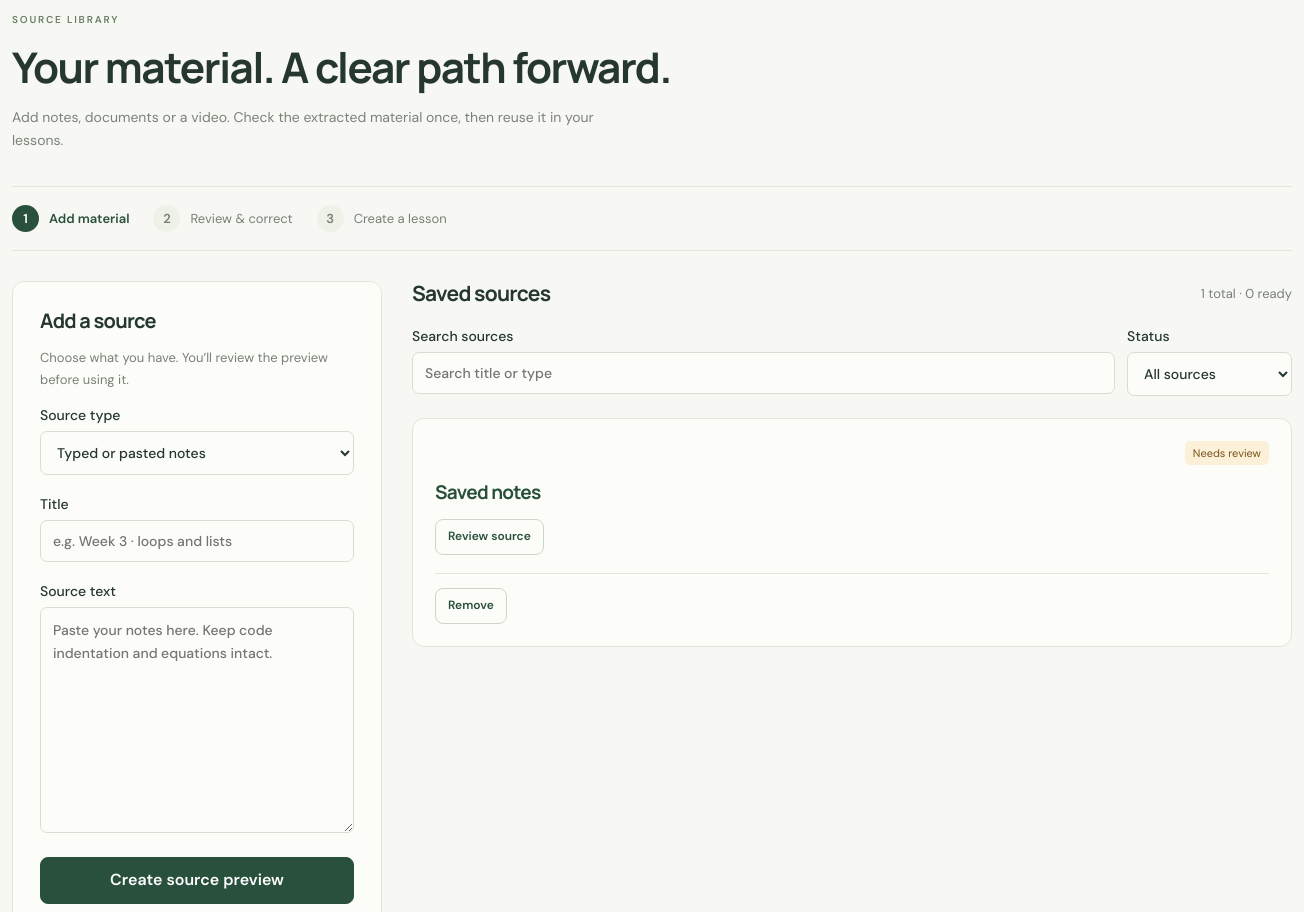
Test: removes a saved source only after confirmation and refreshes the list
Step 1. Click the button with aria-label "Remove source Saved notes" → (471, 606), box [435,588,507,624]
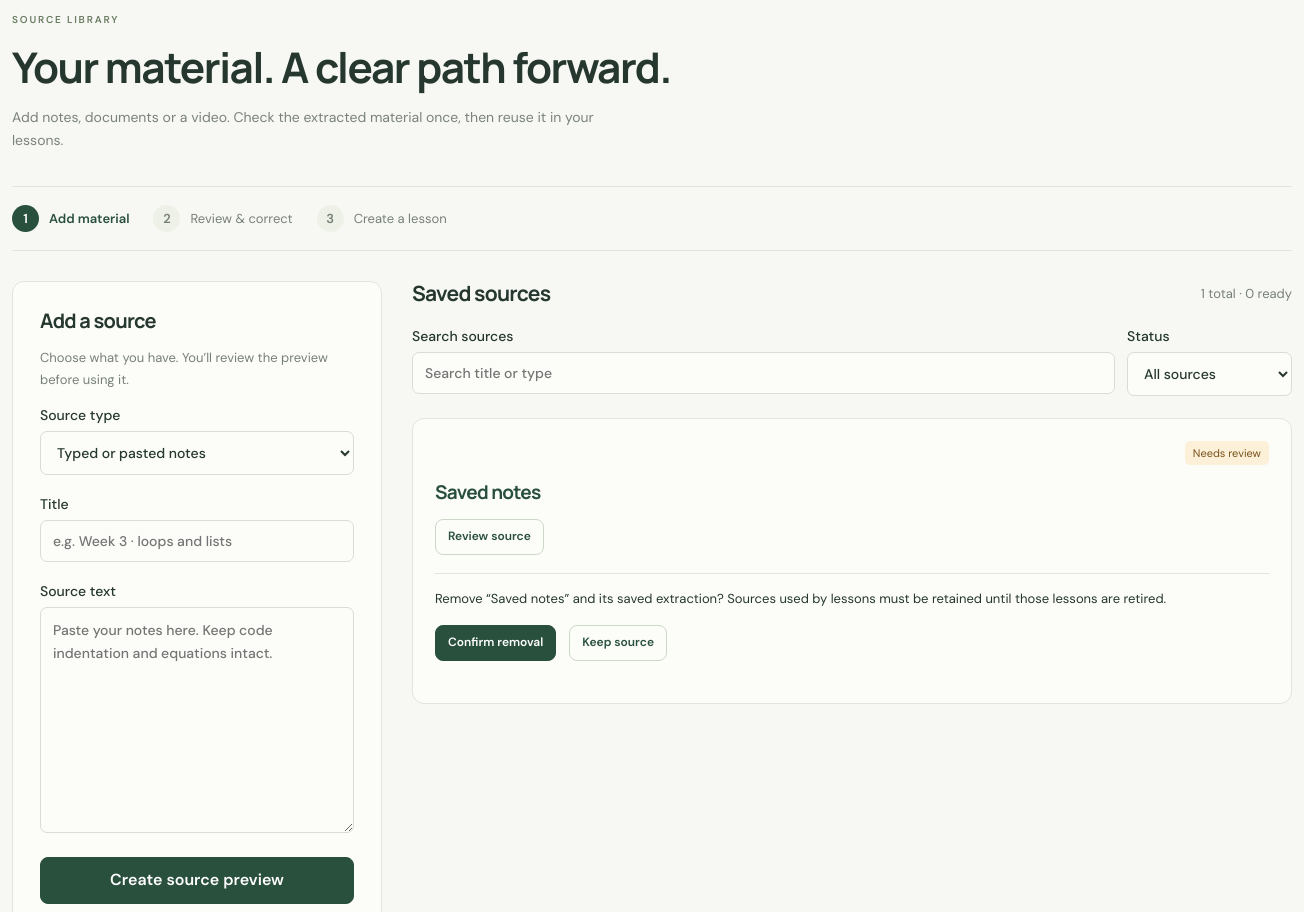
Step 2. Click the button "Keep source" → (618, 643), box [569,625,667,661]
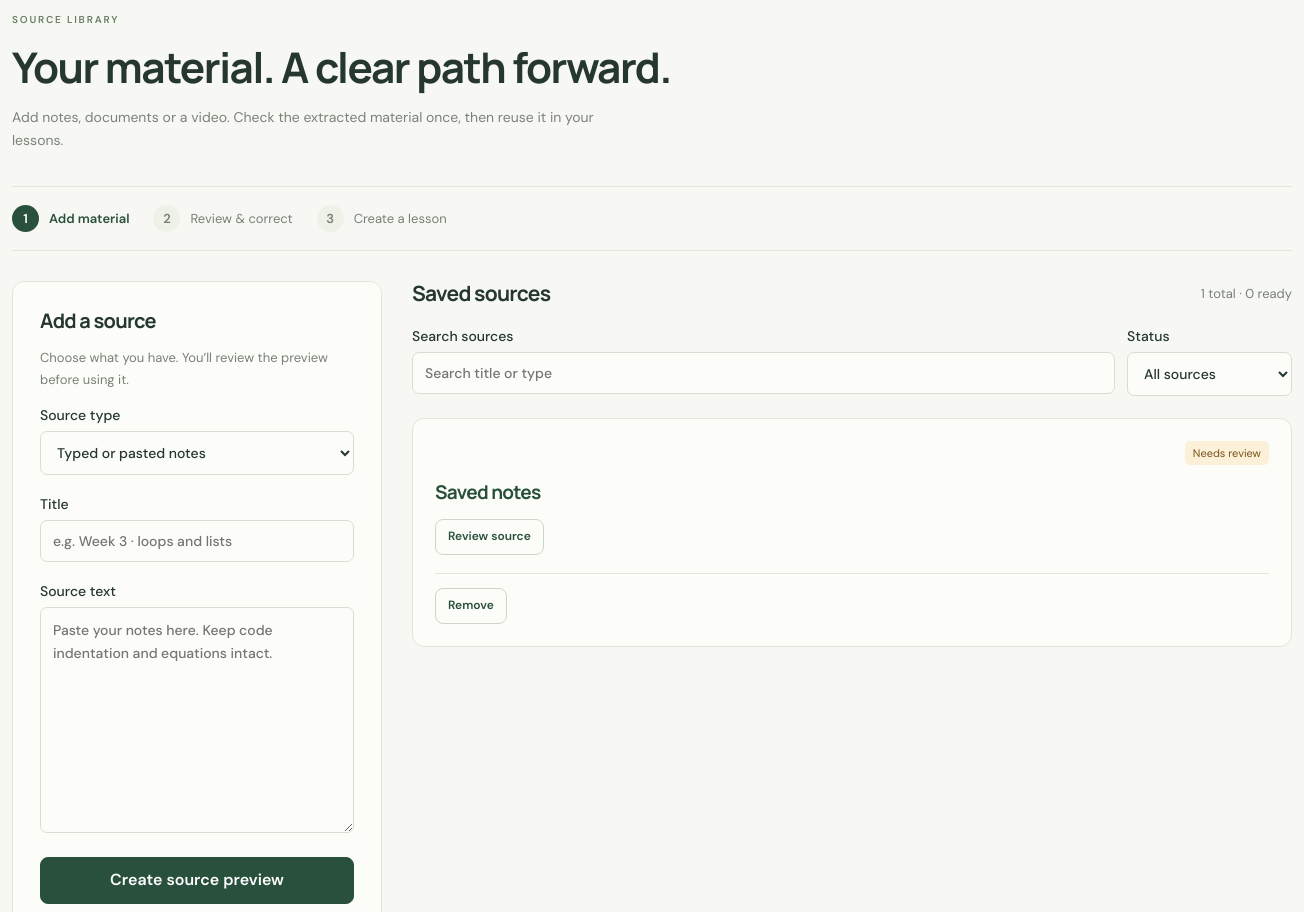
Step 3. Click the button with aria-label "Remove source Saved notes" → (471, 606), box [435,588,507,624]
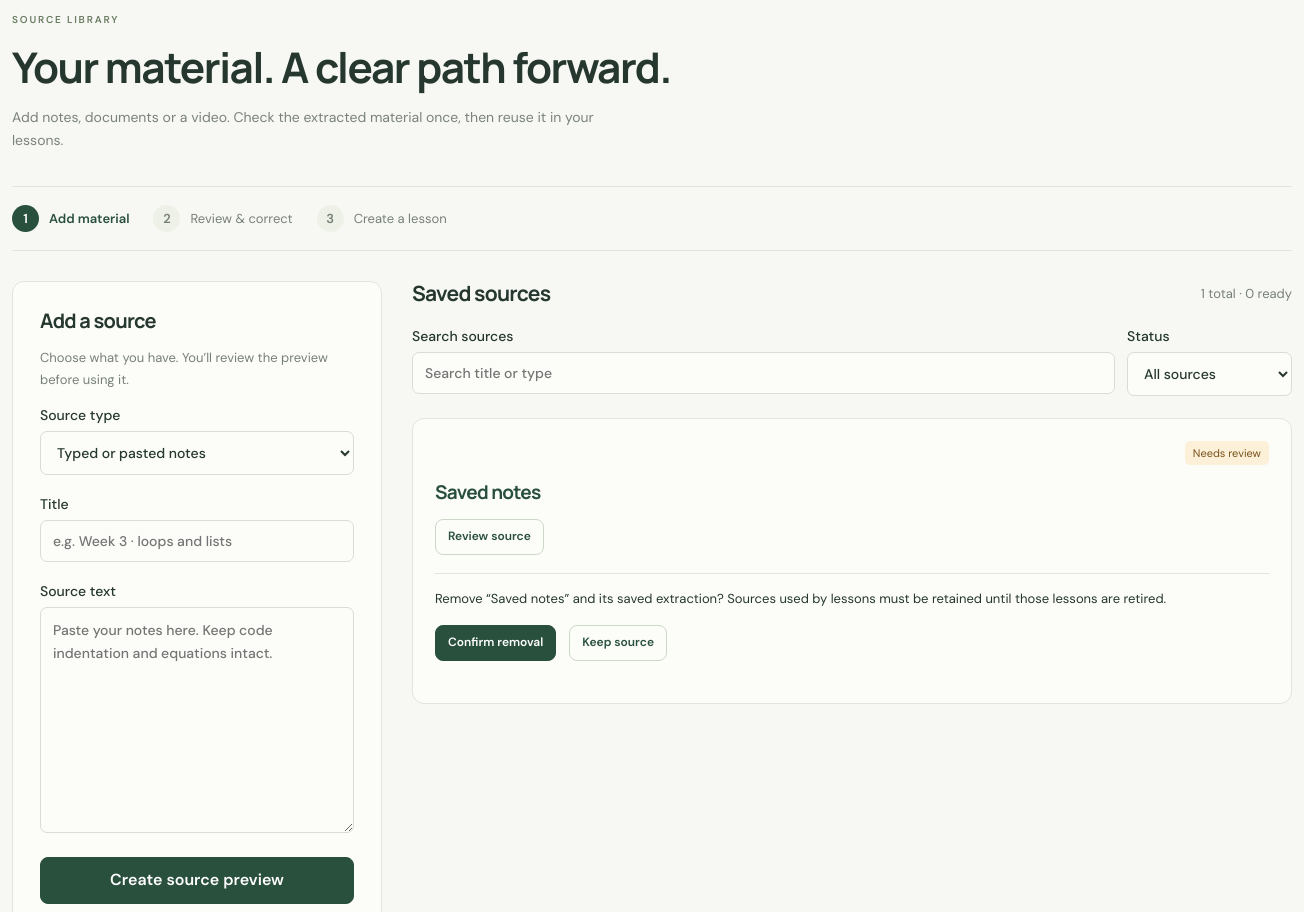
Step 4. Click the button "Confirm removal" → (496, 643), box [435,625,556,661]
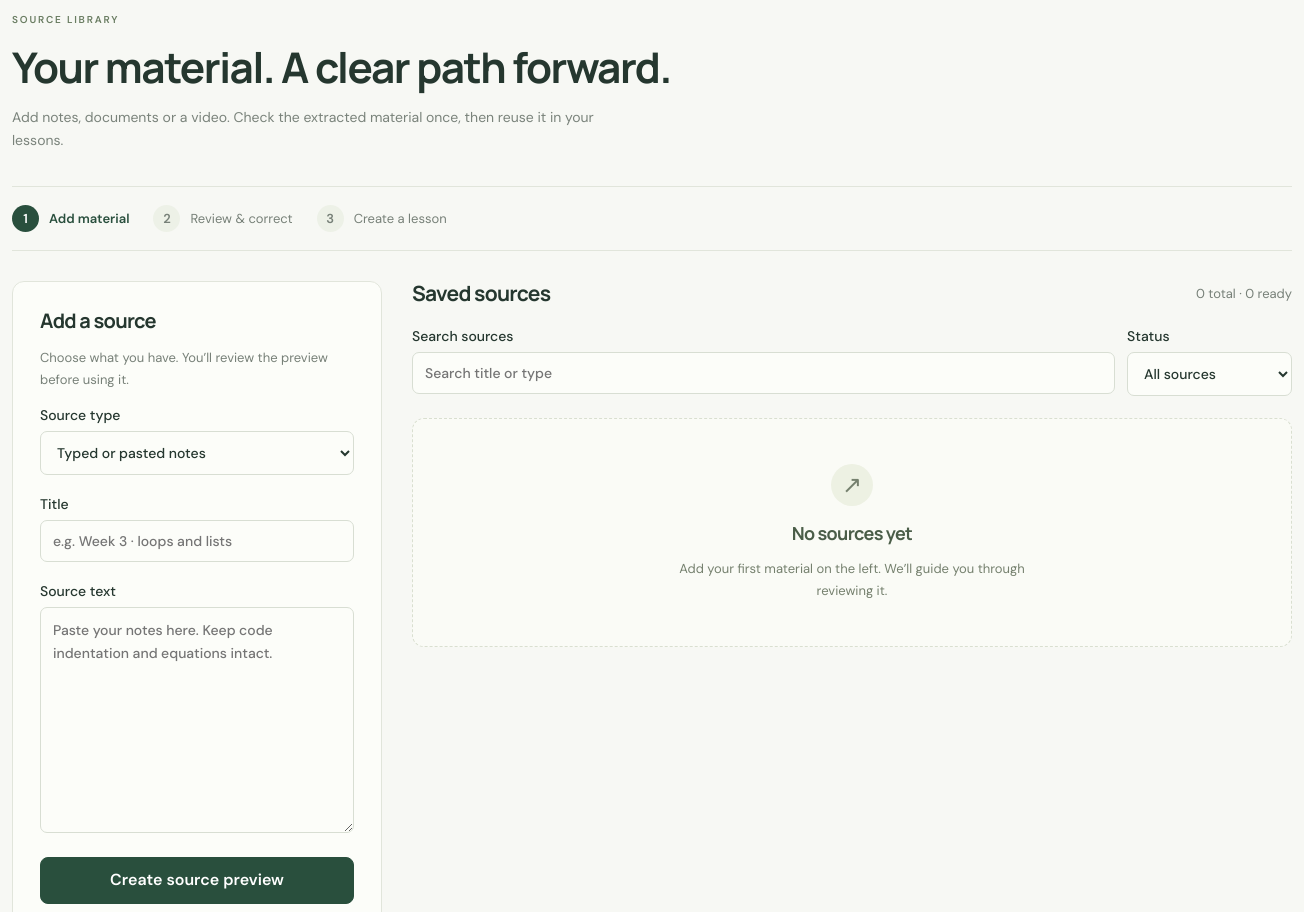
Expected: the heading "No sources yet" is shown, [792,520,912,544]
